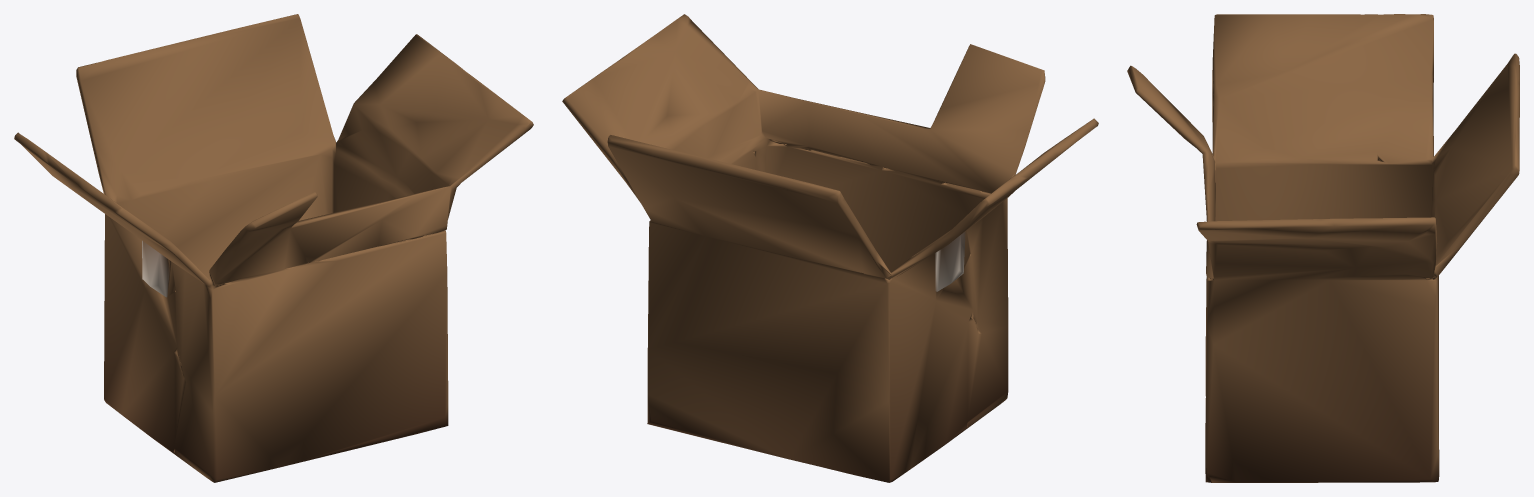
The model's file is gen3d-cardboard-box-lod1.glb.
3 renders of one model, left to right at view 1: azimuth 30°, elevation 25°; view 2: azimuth 150°, elevation 25°; view 3: azimuth 270°, elevation 25°, orthographic. The views are drawn at different scales.
Parts seen in each view (by area): view 1: part_0; view 2: part_0; view 3: part_0.
Part boxes in pixels (x1,y1,x2,y2): part_0: (14, 14, 533, 482); part_0: (562, 14, 1098, 482); part_0: (1127, 14, 1519, 482).
Bounding box in the file's own units: 1.4 × 0.9998 × 1.12.
